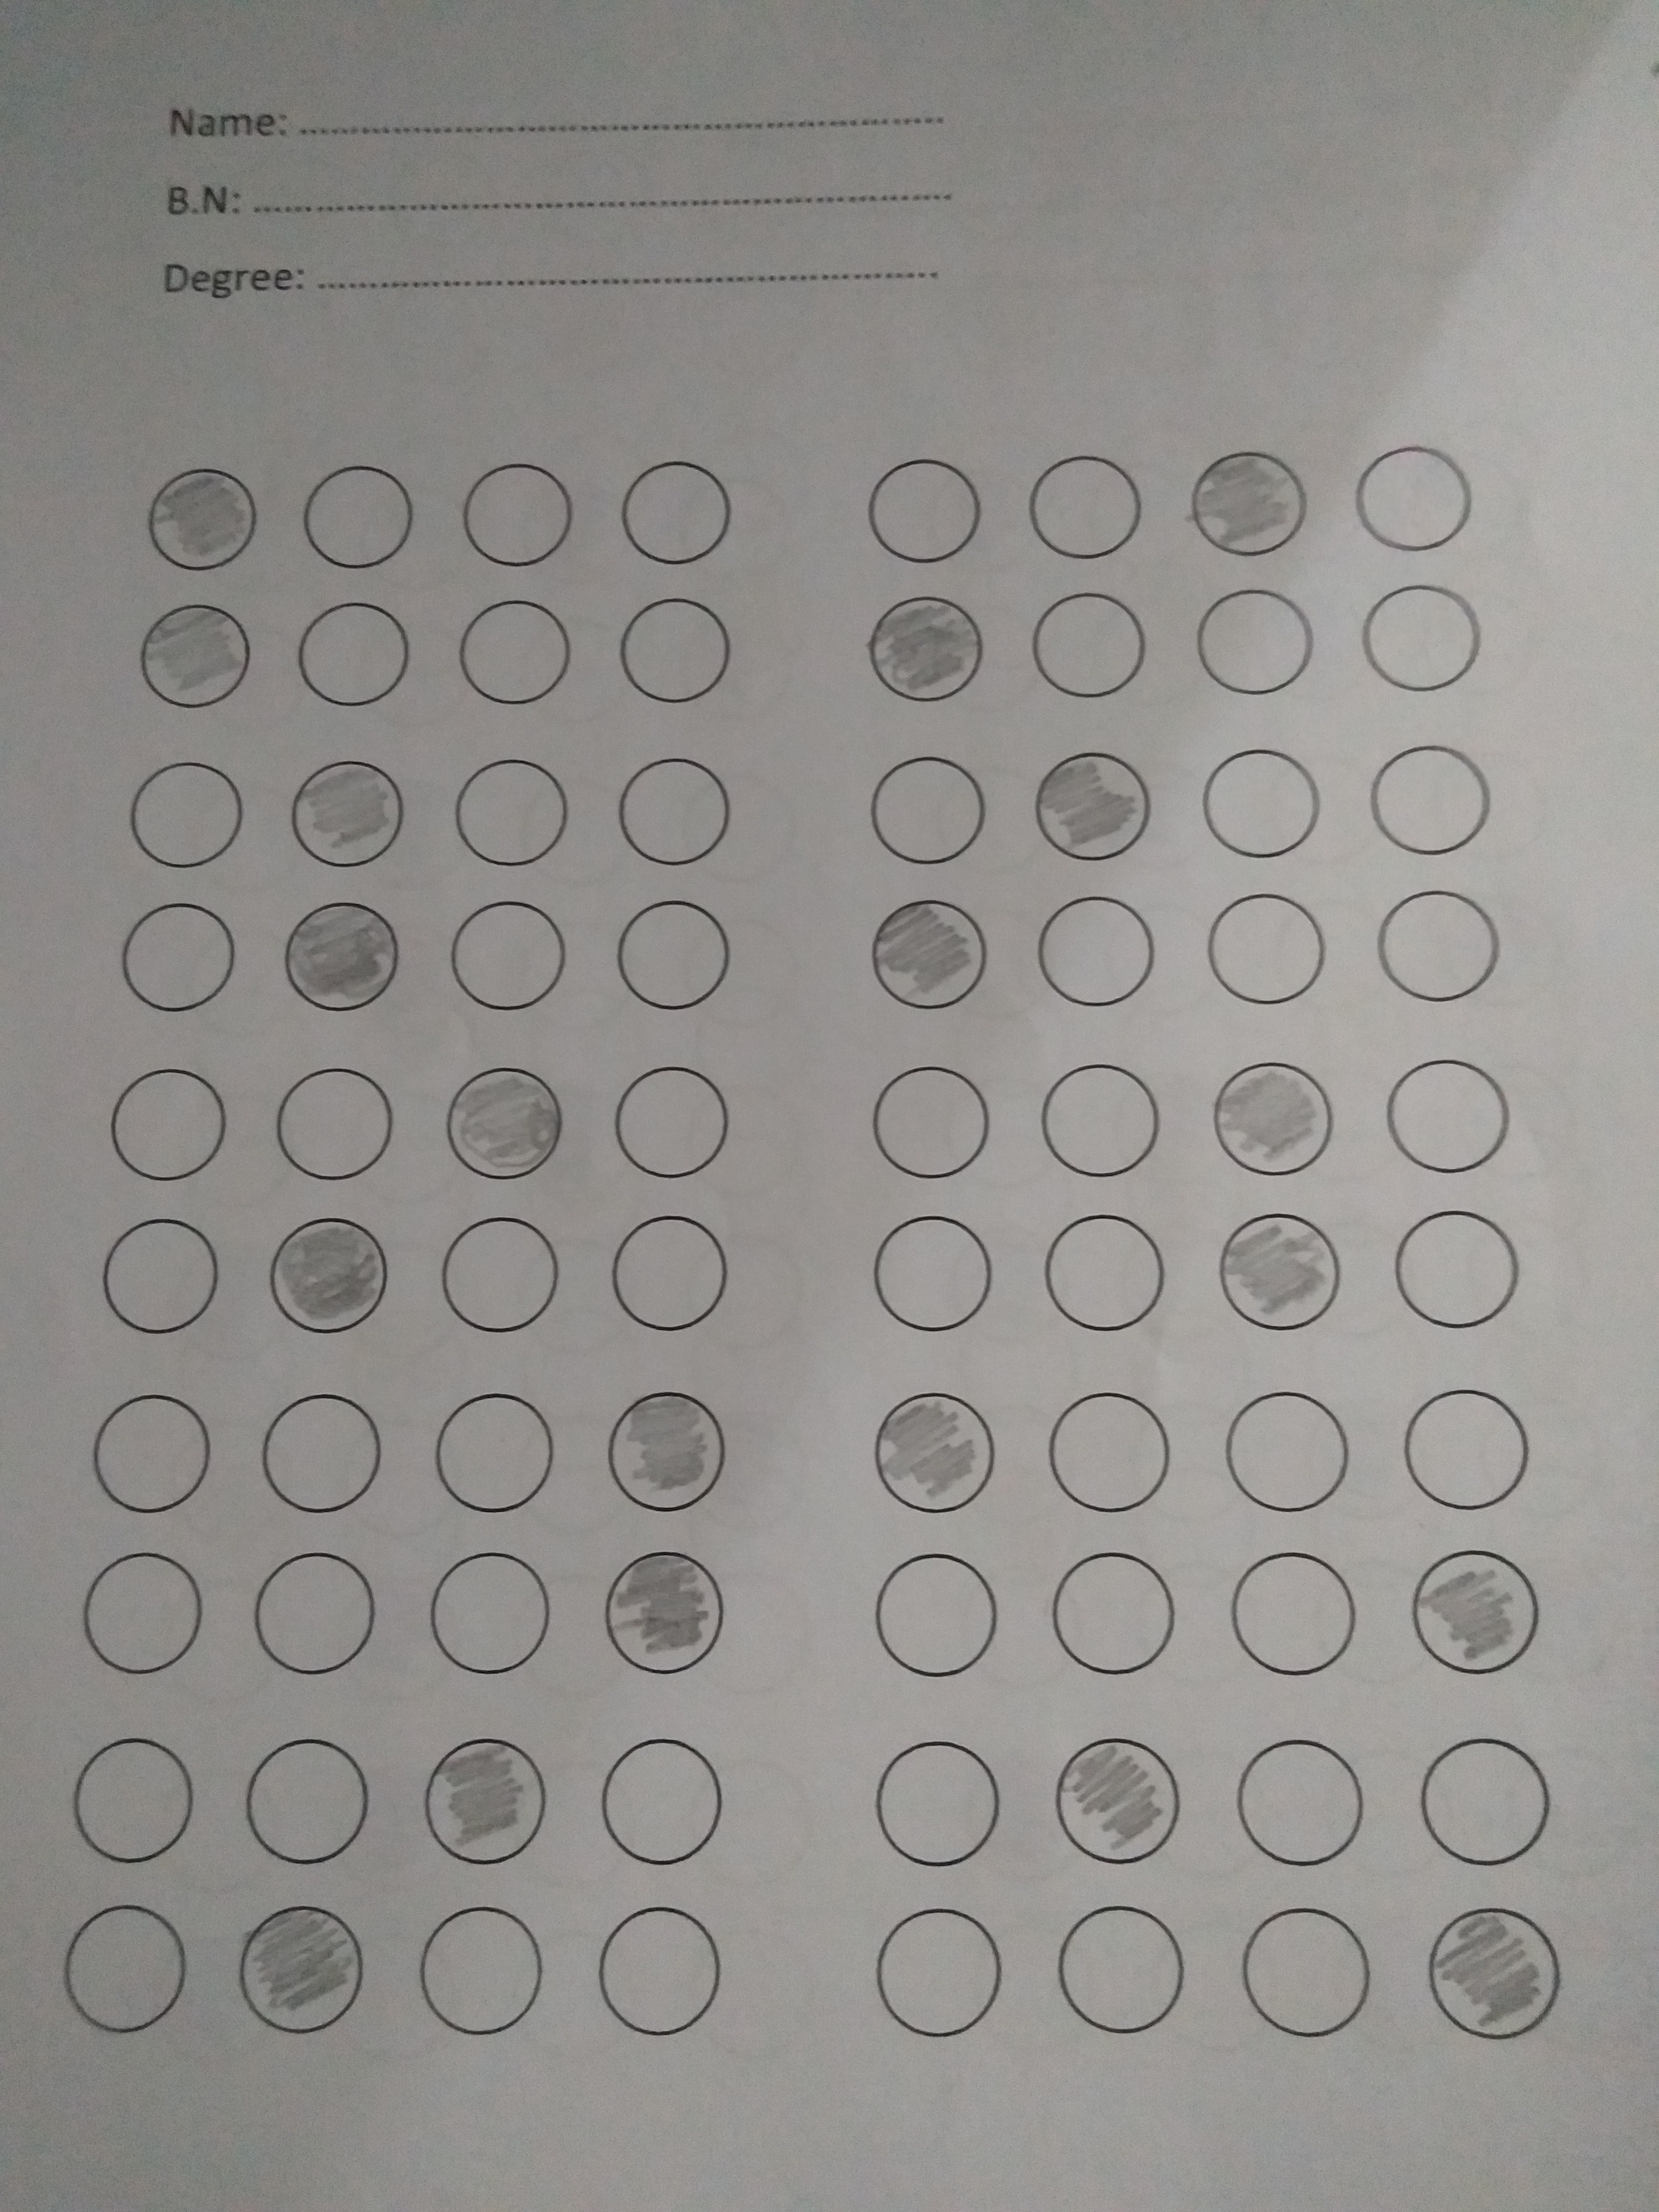not-c: (265, 1052, 404, 1186), (603, 1209, 742, 1343), (420, 1386, 559, 1521), (68, 1547, 207, 1681), (415, 1547, 554, 1681), (594, 1735, 734, 1869), (63, 1733, 202, 1867), (54, 1902, 193, 2036), (1237, 1907, 1377, 2041), (864, 1550, 1004, 1684), (1039, 1547, 1178, 1681), (1394, 1383, 1534, 1517), (85, 1386, 223, 1521), (1040, 1386, 1178, 1521), (1391, 1204, 1530, 1336), (613, 456, 753, 589), (450, 453, 589, 585), (289, 456, 429, 589), (286, 594, 425, 726), (453, 597, 592, 730), (613, 594, 753, 726), (608, 752, 748, 885), (439, 756, 579, 888), (122, 752, 261, 885), (117, 900, 256, 1033), (441, 897, 580, 1029), (610, 894, 749, 1026), (605, 1059, 744, 1191), (101, 1054, 240, 1186), (91, 1209, 230, 1341), (430, 1207, 570, 1339), (247, 1390, 387, 1522), (246, 1548, 385, 1681), (240, 1735, 380, 1867), (415, 1904, 554, 2036), (589, 1905, 728, 2038), (873, 1911, 1012, 2043), (1058, 1905, 1197, 2038), (1234, 1735, 1373, 1867), (1413, 1738, 1553, 1871), (866, 1743, 1006, 1876), (1222, 1547, 1361, 1679), (1222, 1388, 1361, 1521), (1192, 582, 1316, 704), (1023, 587, 1147, 709), (1197, 742, 1321, 864), (1356, 578, 1478, 700), (1371, 737, 1493, 859), (1033, 890, 1155, 1012), (1202, 888, 1324, 1010), (868, 1059, 990, 1181), (871, 1207, 993, 1329), (1375, 887, 1499, 1007), (864, 749, 990, 867), (1025, 446, 1147, 566), (864, 449, 986, 570), (1351, 434, 1473, 554), (1385, 1055, 1507, 1176), (1035, 1061, 1157, 1181), (1040, 1211, 1162, 1331)
taken-c: (1427, 1905, 1570, 2043), (436, 1055, 575, 1190), (260, 1204, 399, 1338), (1049, 1731, 1188, 1865), (235, 1905, 375, 2040), (274, 890, 413, 1024), (861, 1388, 1000, 1521), (1209, 1207, 1349, 1339), (1403, 1547, 1542, 1679), (418, 1733, 558, 1865), (598, 1379, 737, 1512), (599, 1547, 739, 1679), (861, 892, 997, 1012), (1208, 1057, 1340, 1179), (857, 589, 993, 707), (1026, 747, 1159, 864), (1187, 442, 1310, 564), (288, 751, 408, 874), (134, 592, 254, 711), (145, 465, 260, 577)
